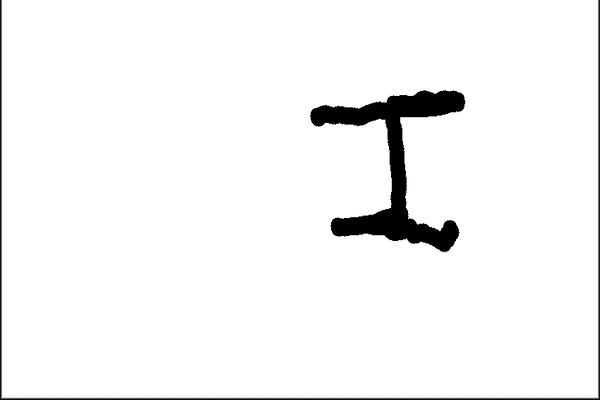i: (283, 75, 488, 261)
